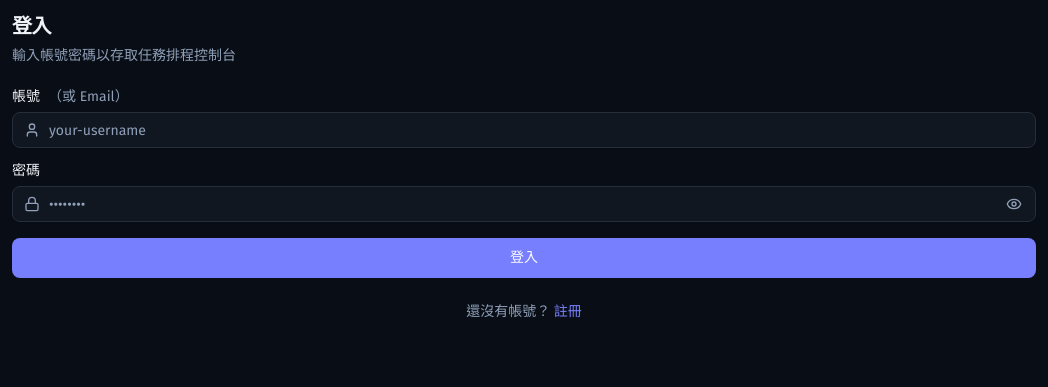
AuthForm — login mode › shows the backend error message on failure
Type "a" into the field labelled "帳號 （或 Email）" at (524, 130), box x1=12 y1=112 x2=1036 y2=148
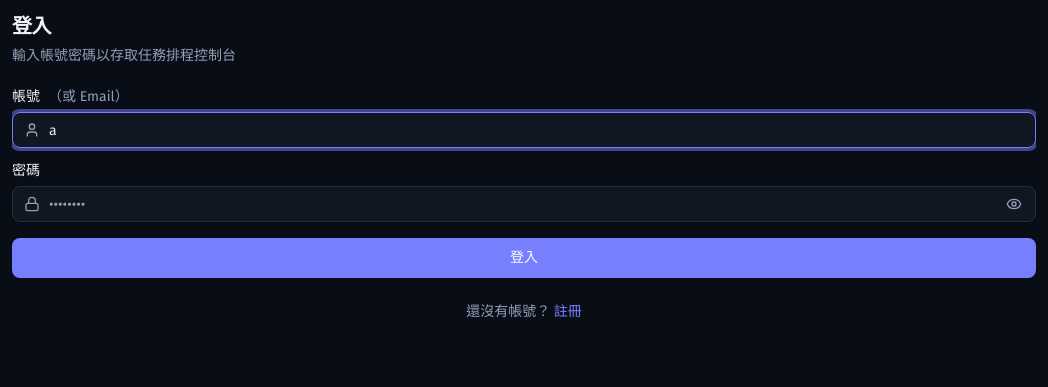
Type "b" into the password field labelled "密碼" at (524, 204), box x1=12 y1=186 x2=1036 y2=222
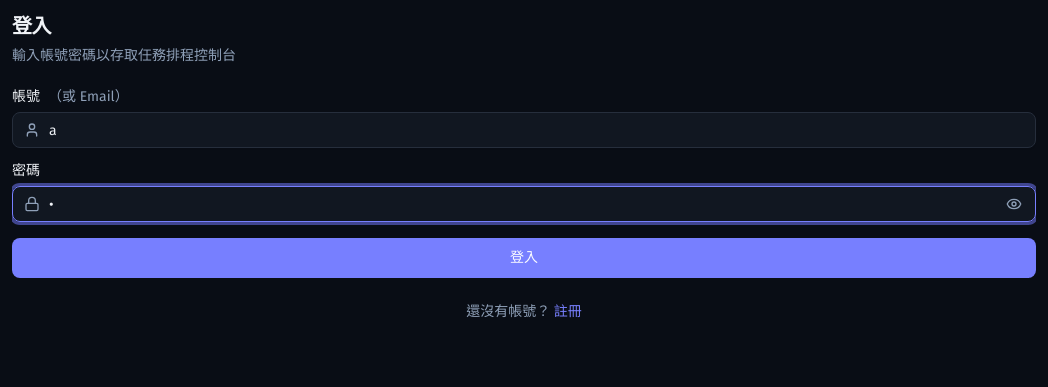
Click the button "登入" at (524, 258), box x1=12 y1=238 x2=1036 y2=278
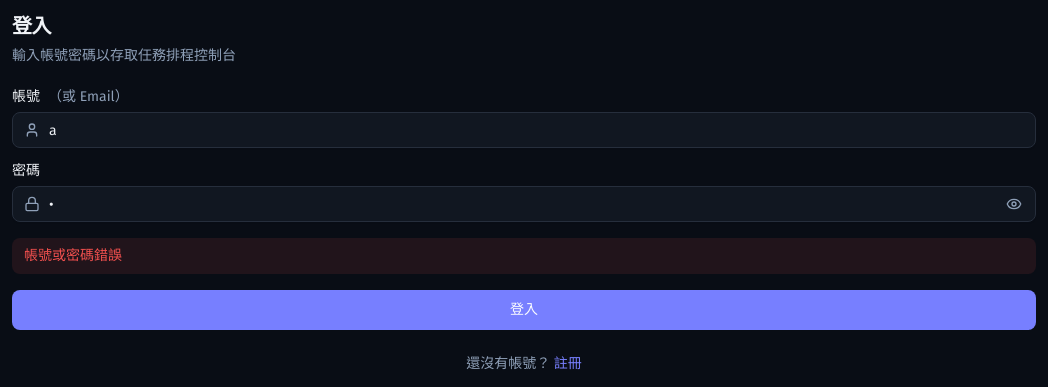
Now the message reads "帳號或密碼錯誤", box x1=24 y1=247 x2=122 y2=264
